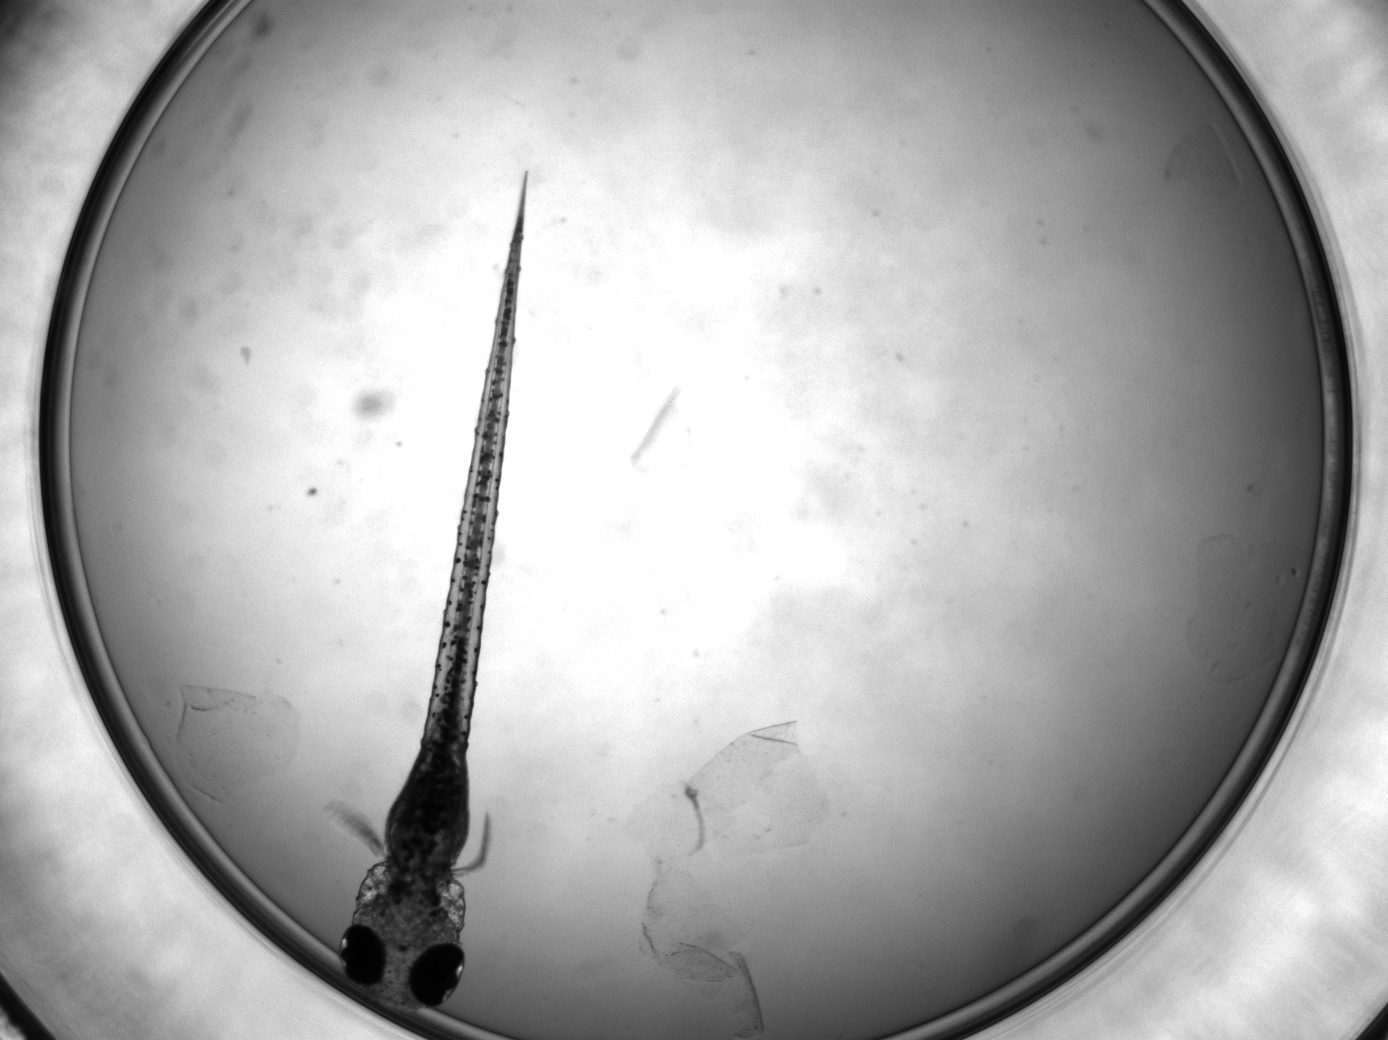debris: (622, 718, 832, 1040), (171, 682, 306, 808)
embryo: (340, 166, 535, 1012)
eye: (410, 944, 466, 1008), (340, 922, 385, 985)
yolksac: (385, 738, 476, 874)
